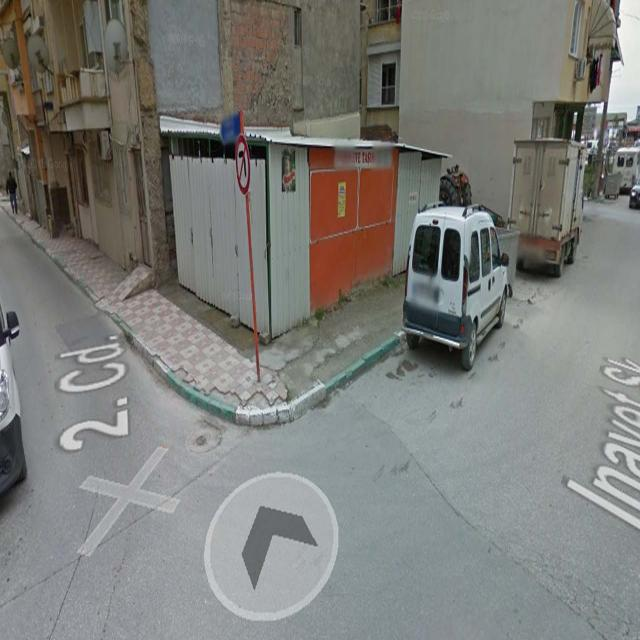soladonulmez: (235, 134, 251, 195)
